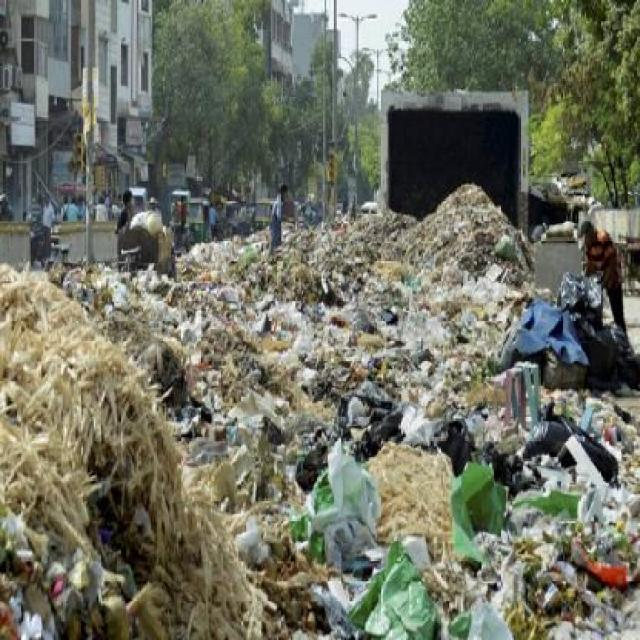garbage: (234, 382, 606, 638), (191, 253, 434, 410), (426, 186, 508, 387)
